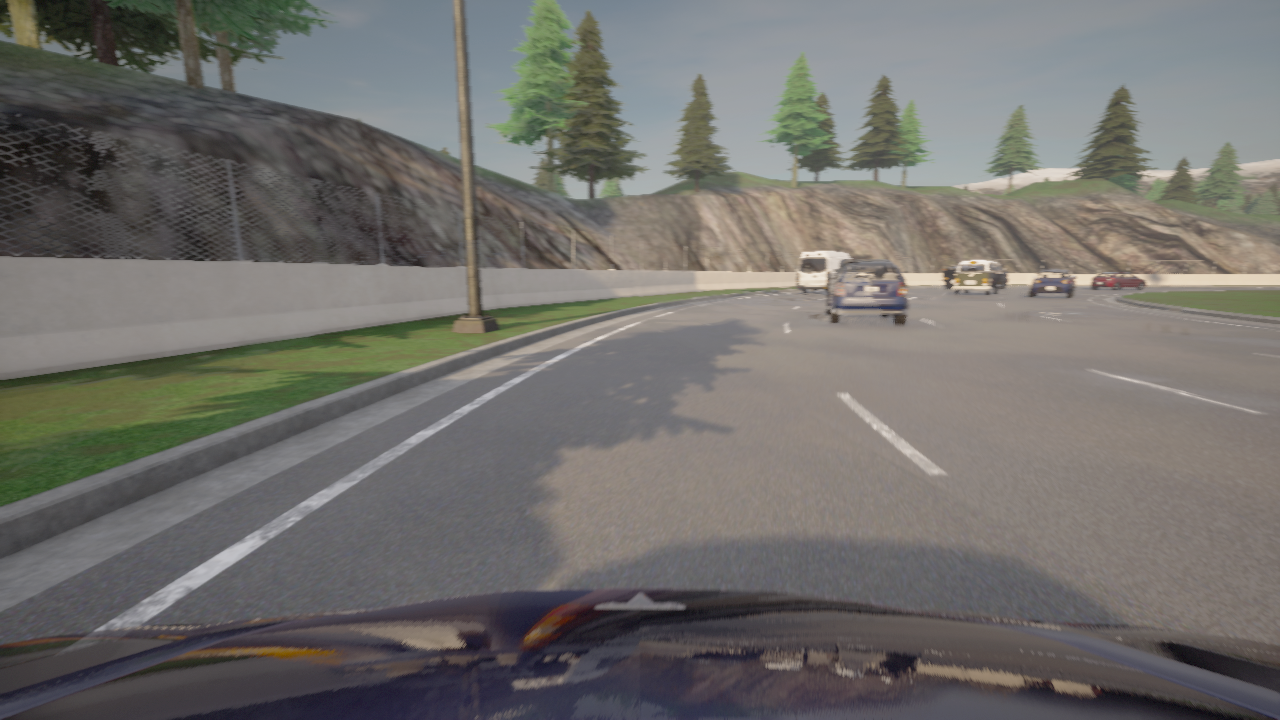cyclist: (0, 588, 1279, 719), (826, 260, 908, 325), (797, 250, 850, 293), (952, 260, 1005, 295), (941, 266, 1008, 289), (1028, 270, 1076, 299), (1091, 272, 1146, 289)
